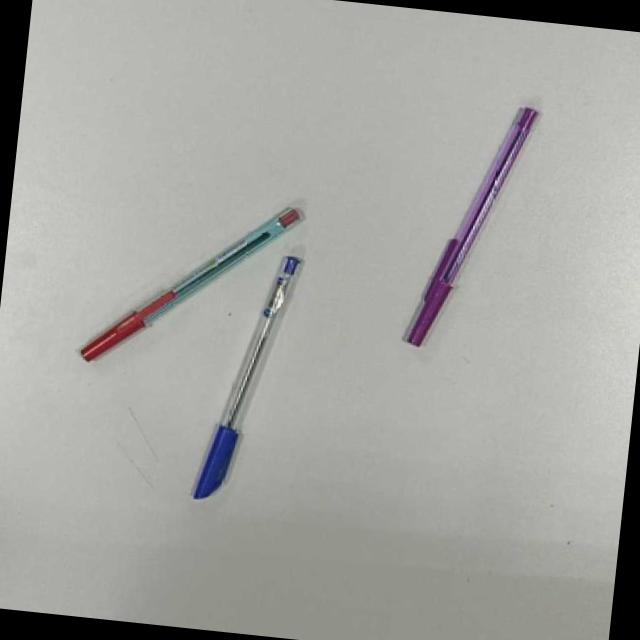caneta: (78, 201, 300, 367), (401, 103, 538, 348), (191, 253, 308, 506)
